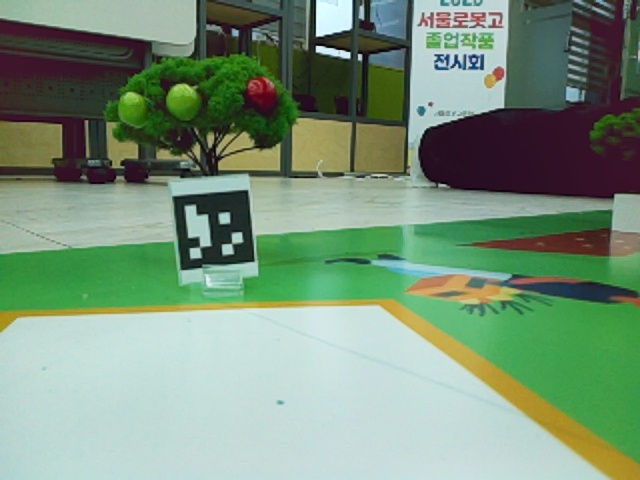apple: (238, 73, 284, 122)
